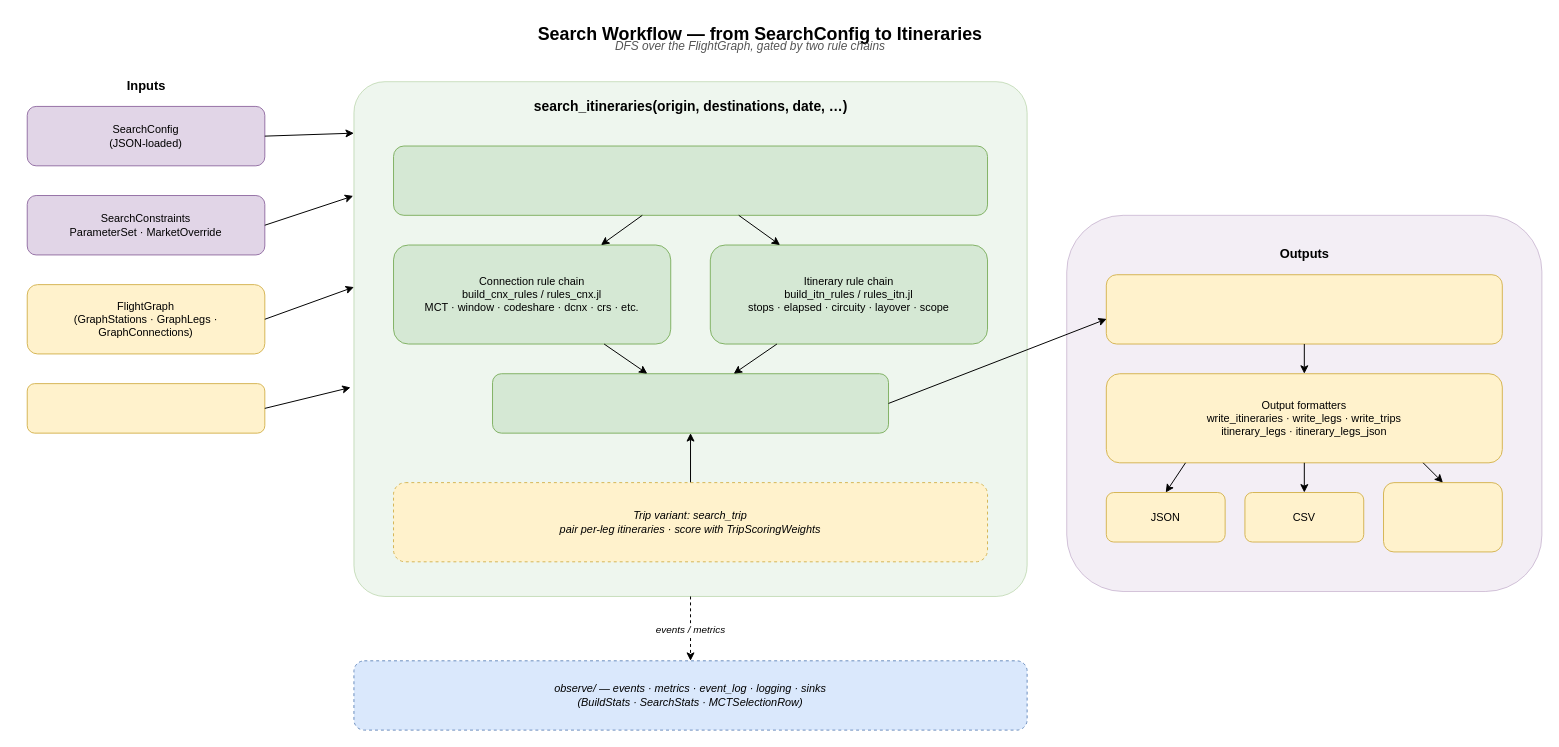
Some shapes in this 1559 by 747 pixel diagram are drawn without their labels. The shapes that lost their labels are listed below. From the top down, each one's box as (x1, y1, x2, y2) in pixels, then its label:
(393, 145, 988, 215): DFS traversal over GraphStation → GraphConnection
(1105, 274, 1502, 344): Itinerary · ItineraryRef · ConnectionRef Trip · TripLeg
(26, 383, 265, 433): MCTLookup
(492, 373, 889, 433): _validate_and_commit! push accepted itinerary to results
(1383, 482, 1502, 552): HTML viz viz_network_map · viz_timeline · viz_trip_comparison
